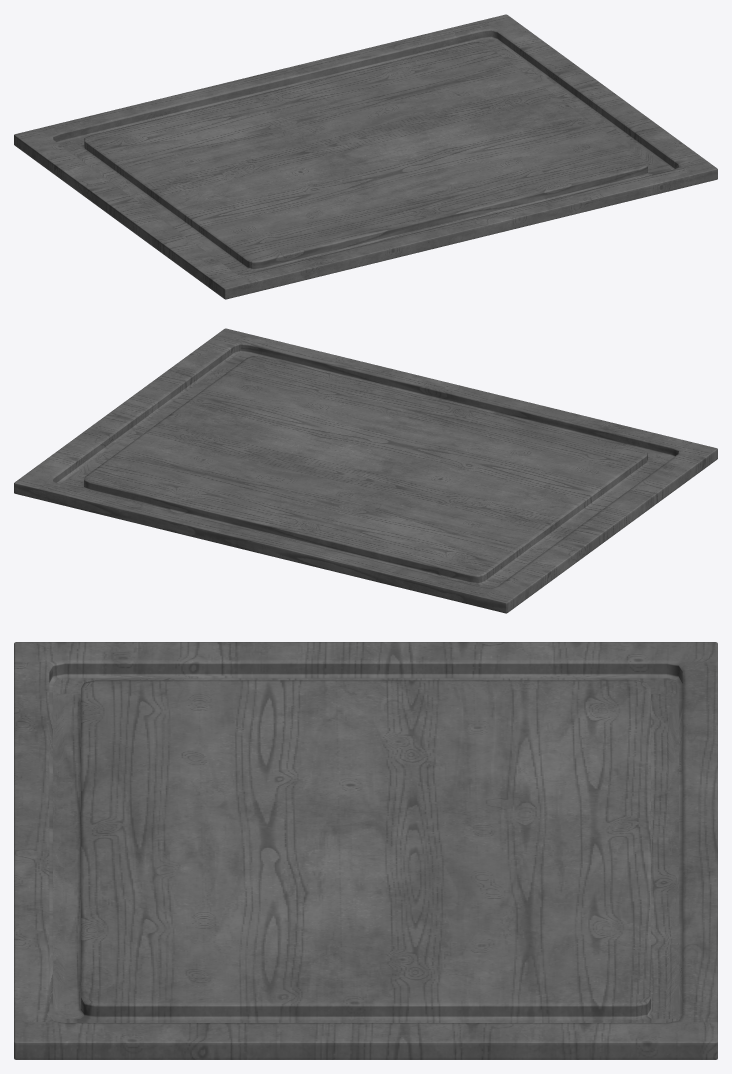
Rendered from CuttingBoard_With_Texture.fbx.
3 renders of one model, top to bottom at view 1: azimuth 30°, elevation 25°; view 2: azimuth 150°, elevation 25°; view 3: azimuth 270°, elevation 25°, orthographic. The views are drawn at different scales.
Parts seen in each view (by area): view 1: SmoothedCuttingBoard; view 2: SmoothedCuttingBoard; view 3: SmoothedCuttingBoard.
Boxes of the visible parts, x1=… form: SmoothedCuttingBoard: x1=14, y1=14, x2=717, y2=299; SmoothedCuttingBoard: x1=14, y1=328, x2=717, y2=613; SmoothedCuttingBoard: x1=14, y1=642, x2=717, y2=1059.
Size of the model in its own units: 10.01 by 0.2103 by 7.44.
